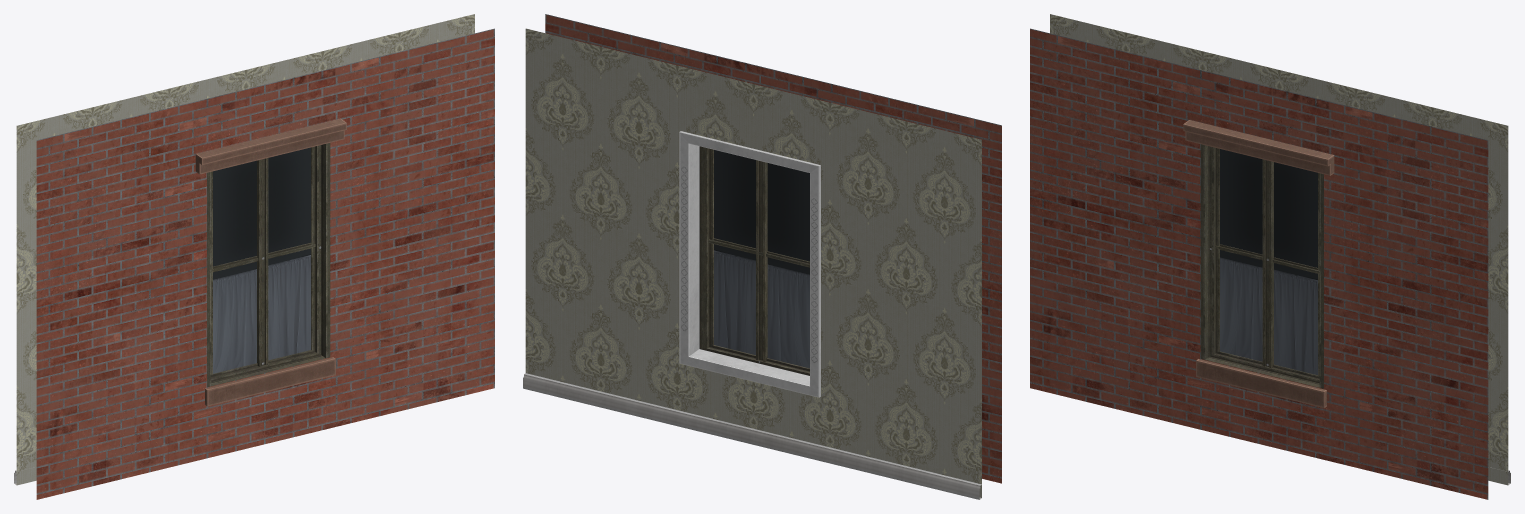
Rendered from House_07_Windows_04.fbx.
The picture shows the model from 3 angles, left to right: view 1: azimuth 30°, elevation 25°; view 2: azimuth 150°, elevation 25°; view 3: azimuth 330°, elevation 25°; orthographic projection.
Parts seen in each view (by area): view 1: House_07_Windows_04_LOD0; view 2: House_07_Windows_04_LOD0; view 3: House_07_Windows_04_LOD0.
Part boxes in pixels (x1=…): House_07_Windows_04_LOD0: x1=14, y1=14, x2=494, y2=499; House_07_Windows_04_LOD0: x1=523, y1=14, x2=1001, y2=499; House_07_Windows_04_LOD0: x1=1030, y1=14, x2=1510, y2=499.
Size of what is drawn, in the model's own units: 400 by 300 by 43.29.
